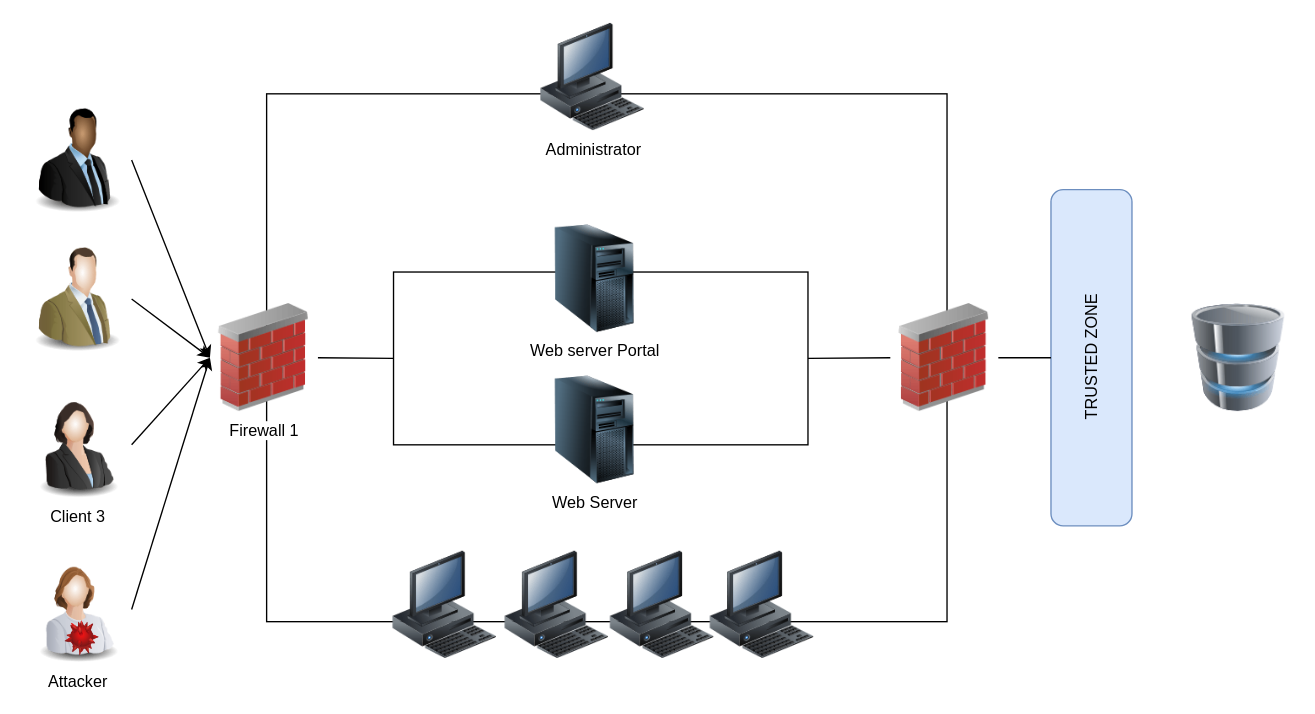
The diagram is 1315 pixels wide and 714 high, and some of its shapes have lost their labels. The centre of each missing label's shape, as x and y in pixels:
"Client 1" belongs at (77,159).
"Client 2" belongs at (77,298).
"Database" belongs at (1238,357).
"Firewall 2" belongs at (944,357).
